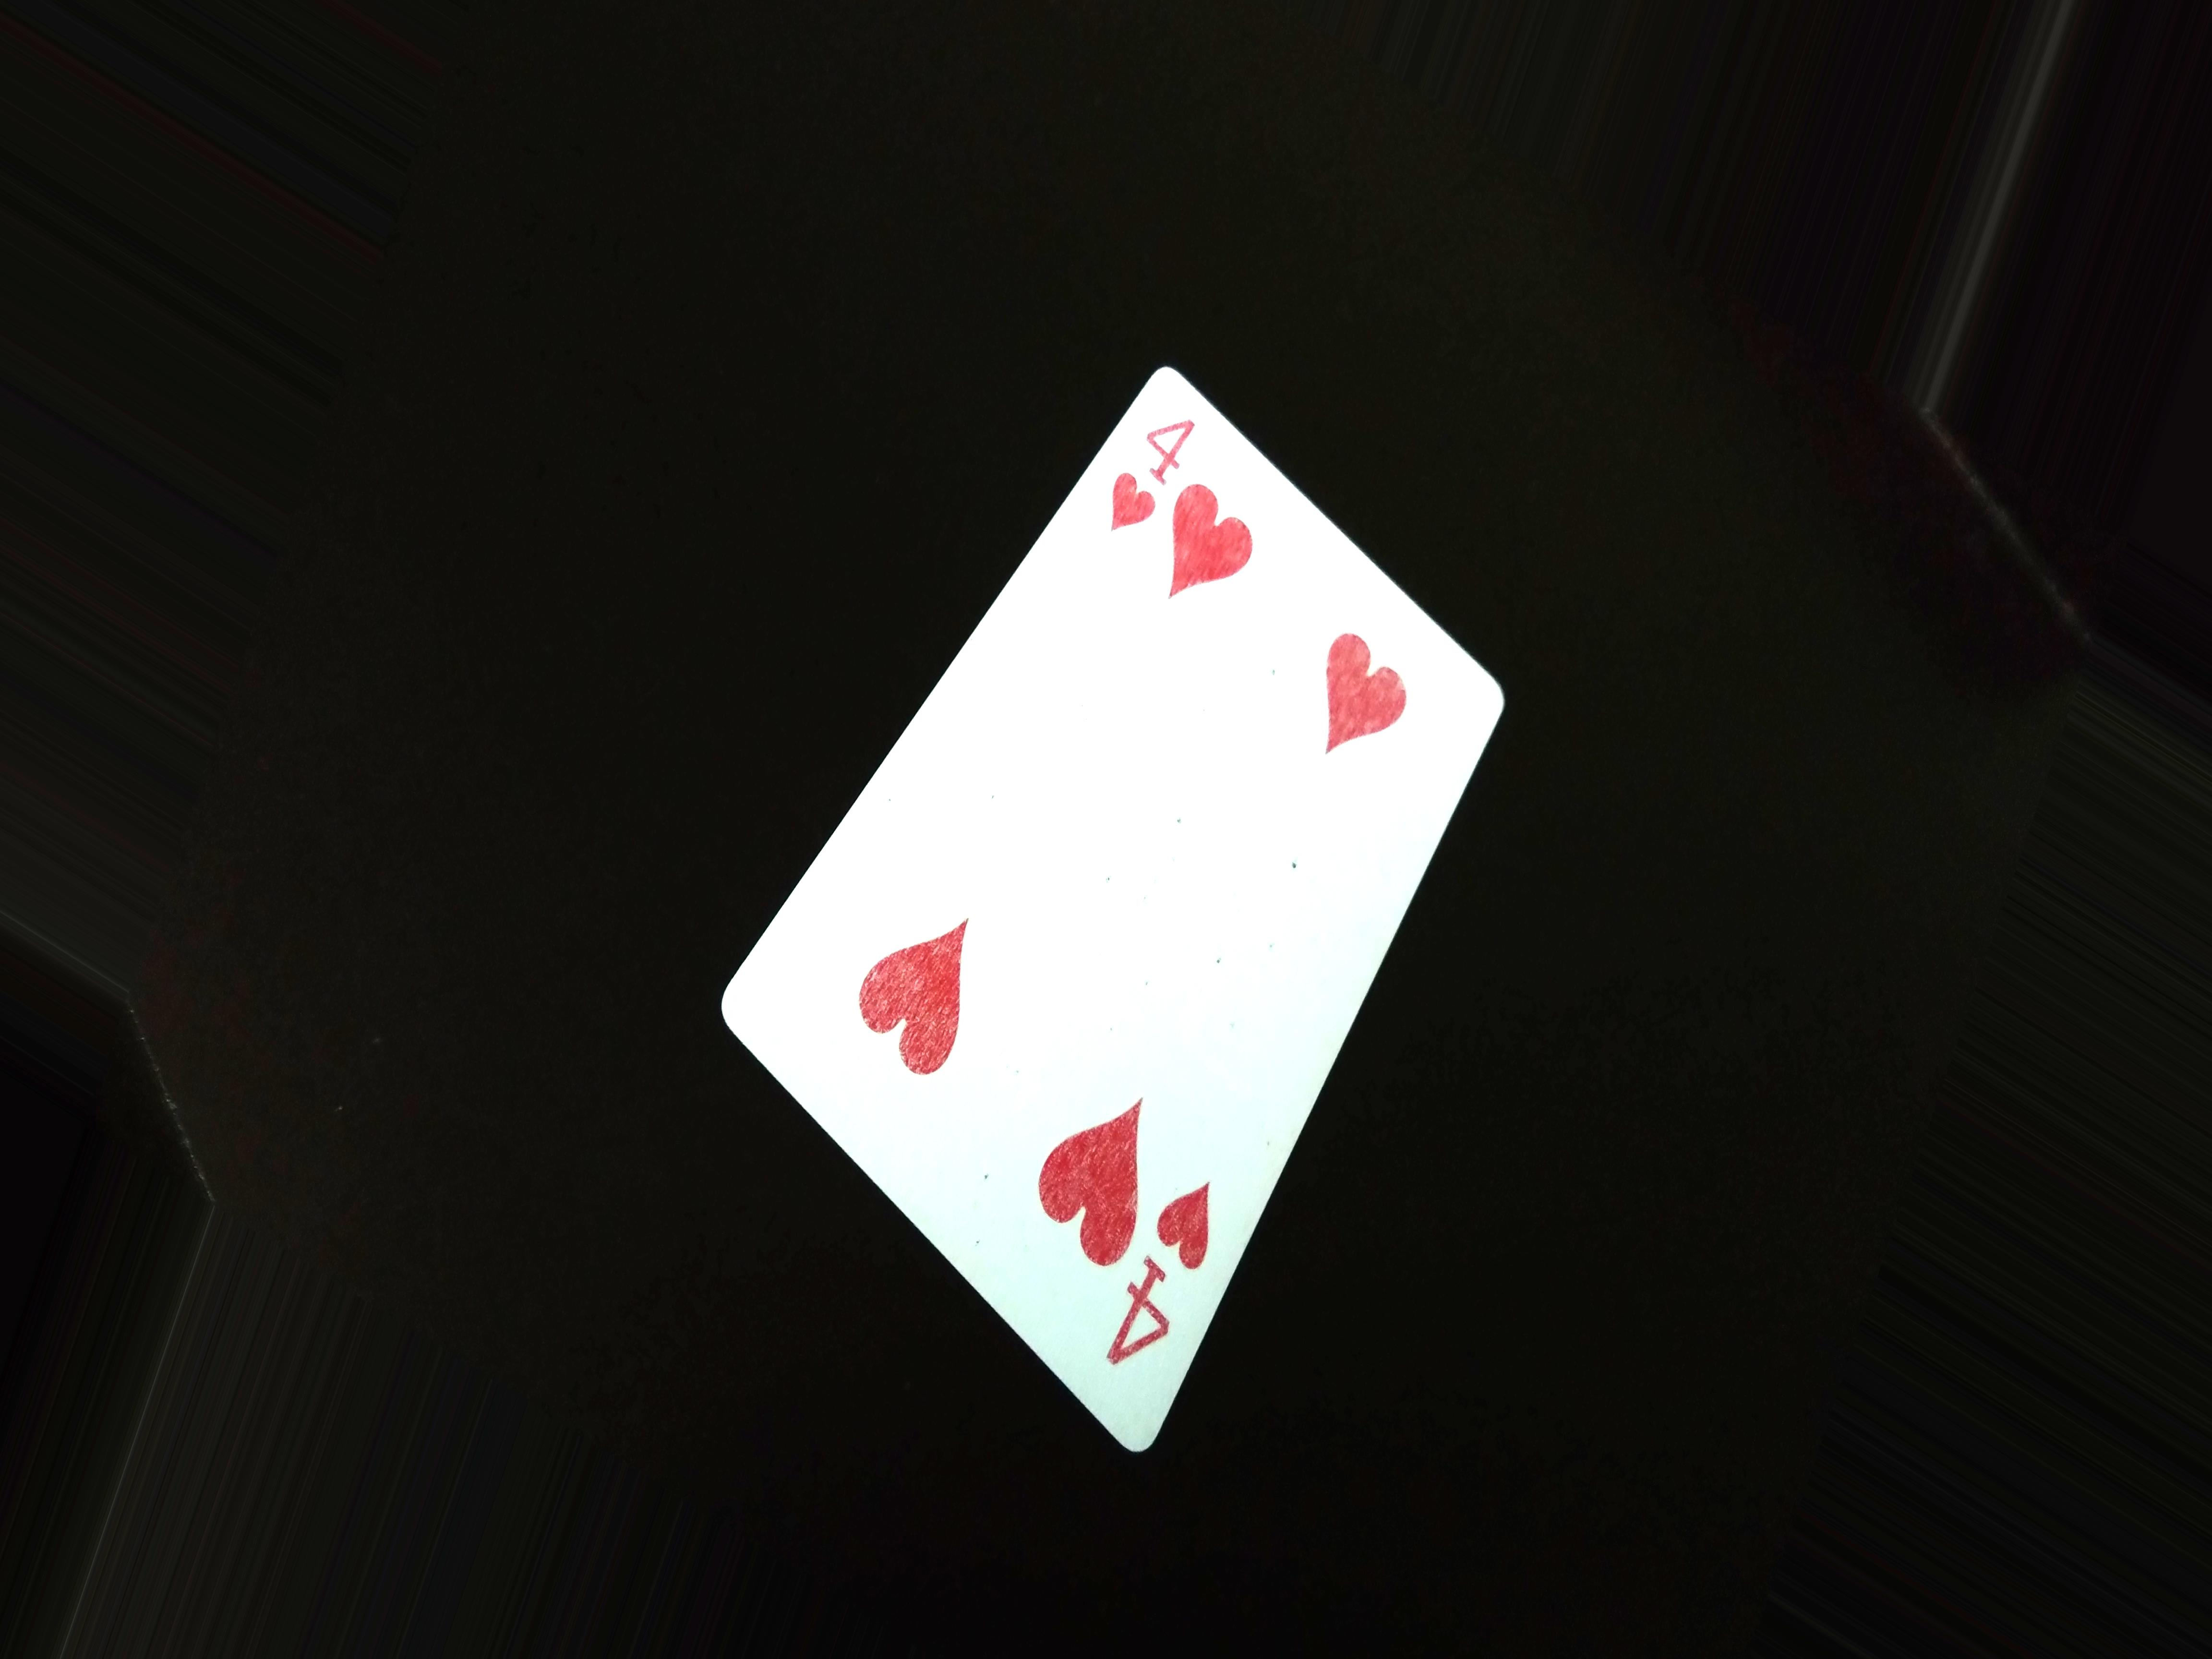4H: (1104, 1182, 1224, 1387)
